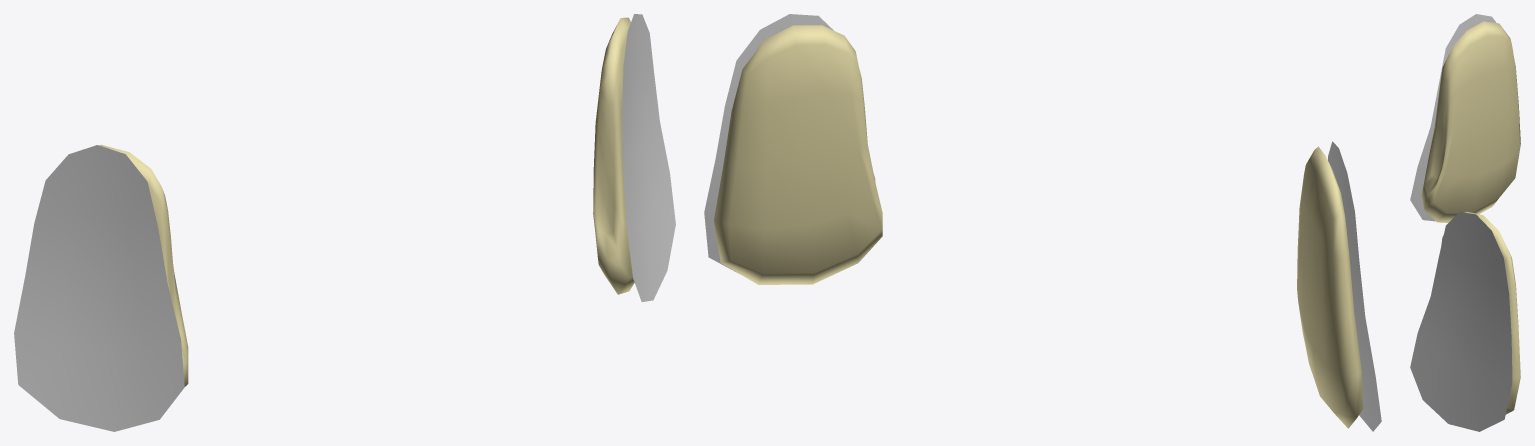
The model's file is ears-2.fbx.
The picture shows the model from 3 angles, left to right: view 1: azimuth 30°, elevation 25°; view 2: azimuth 150°, elevation 25°; view 3: azimuth 270°, elevation 25°; orthographic projection. The views are drawn at different scales.
Parts seen in each view (by area): view 1: Cube; view 2: Cube; view 3: Cube.
Part boxes in pixels (bbox=[...]): Cube: bbox=[14, 14, 675, 431]; Cube: bbox=[704, 14, 1381, 431]; Cube: bbox=[1410, 14, 1520, 431].
Bounding box in the file's own units: 71.51 × 28.42 × 13.63.
